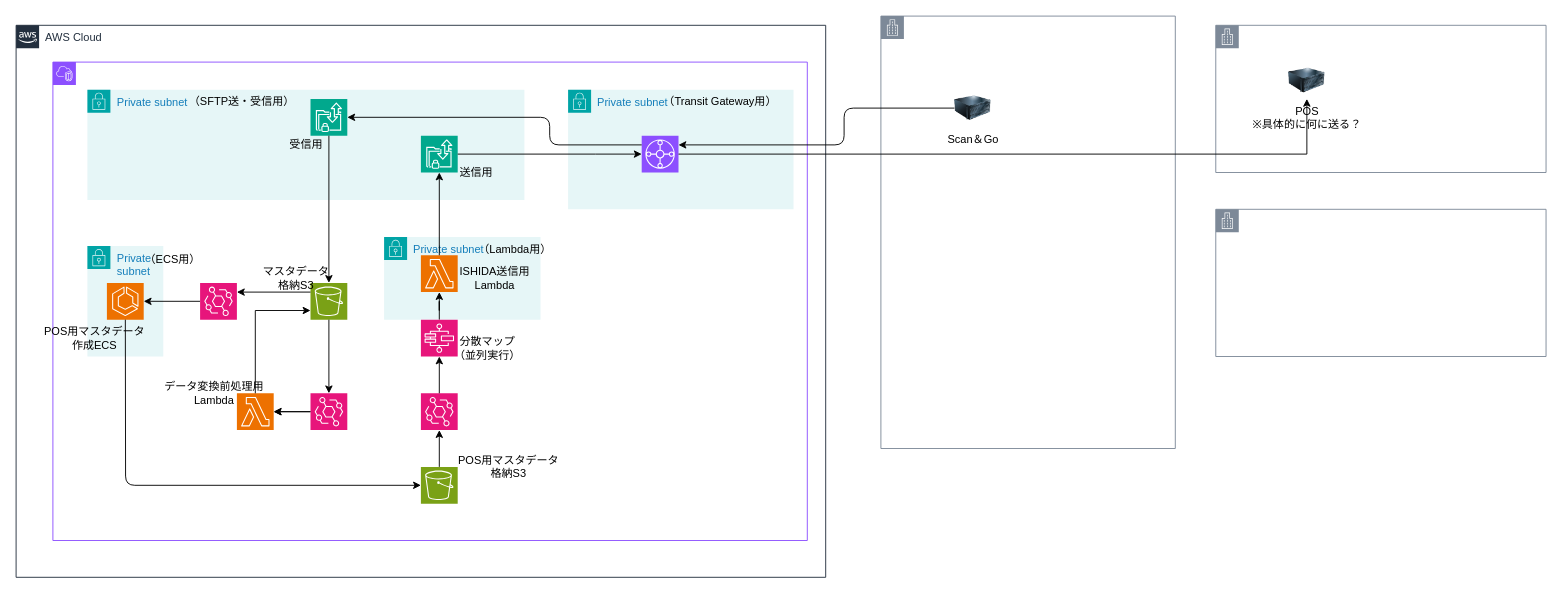
This 1562x593 diagram has some shape labels left out. The box of each missing label's shape, as (x1, y1, x2, y2) in pixels:
USMH網: (880, 15, 1175, 448)
VPC: (52, 61, 807, 540)
いなげや: (1215, 208, 1546, 356)
カスミDC: (1215, 24, 1546, 172)
